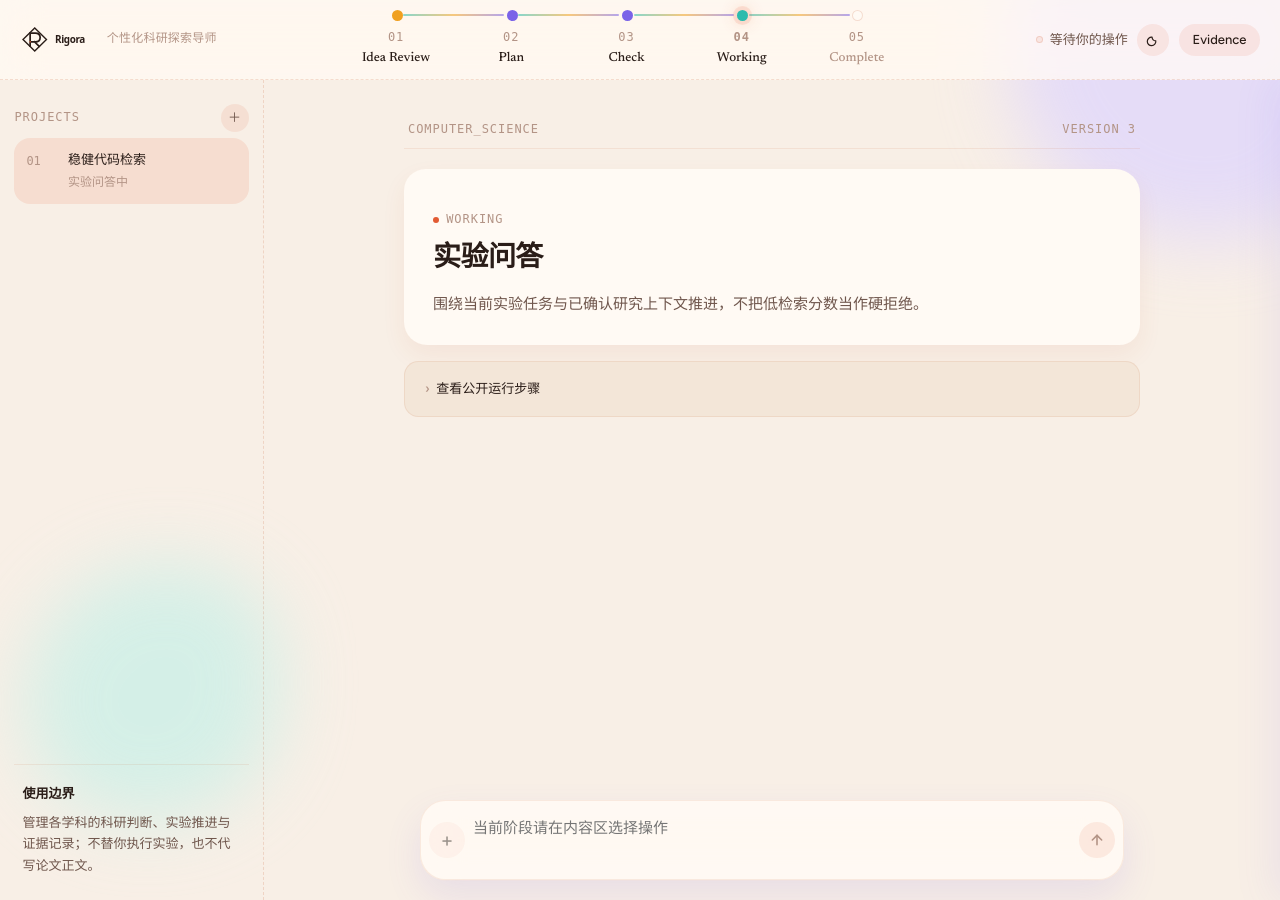
Test: ProjectWorkspace › locks background scroll while a narrow-screen panel is open and closes on Escape
Click the button "Evidence" at (1219, 40), box [1179,24,1260,56]
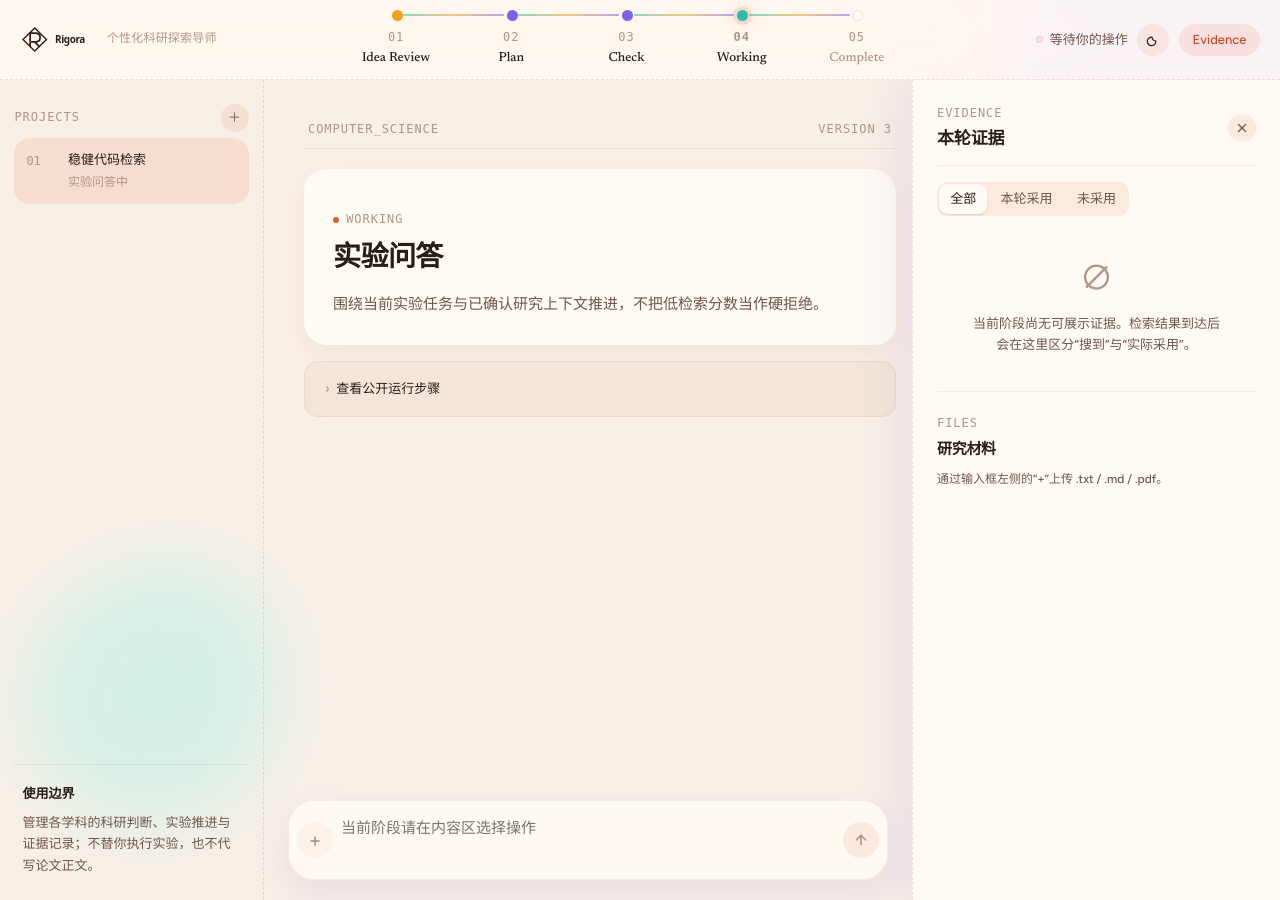
Expected: the button "Evidence" is expanded, [1179,24,1260,56]
Press Escape
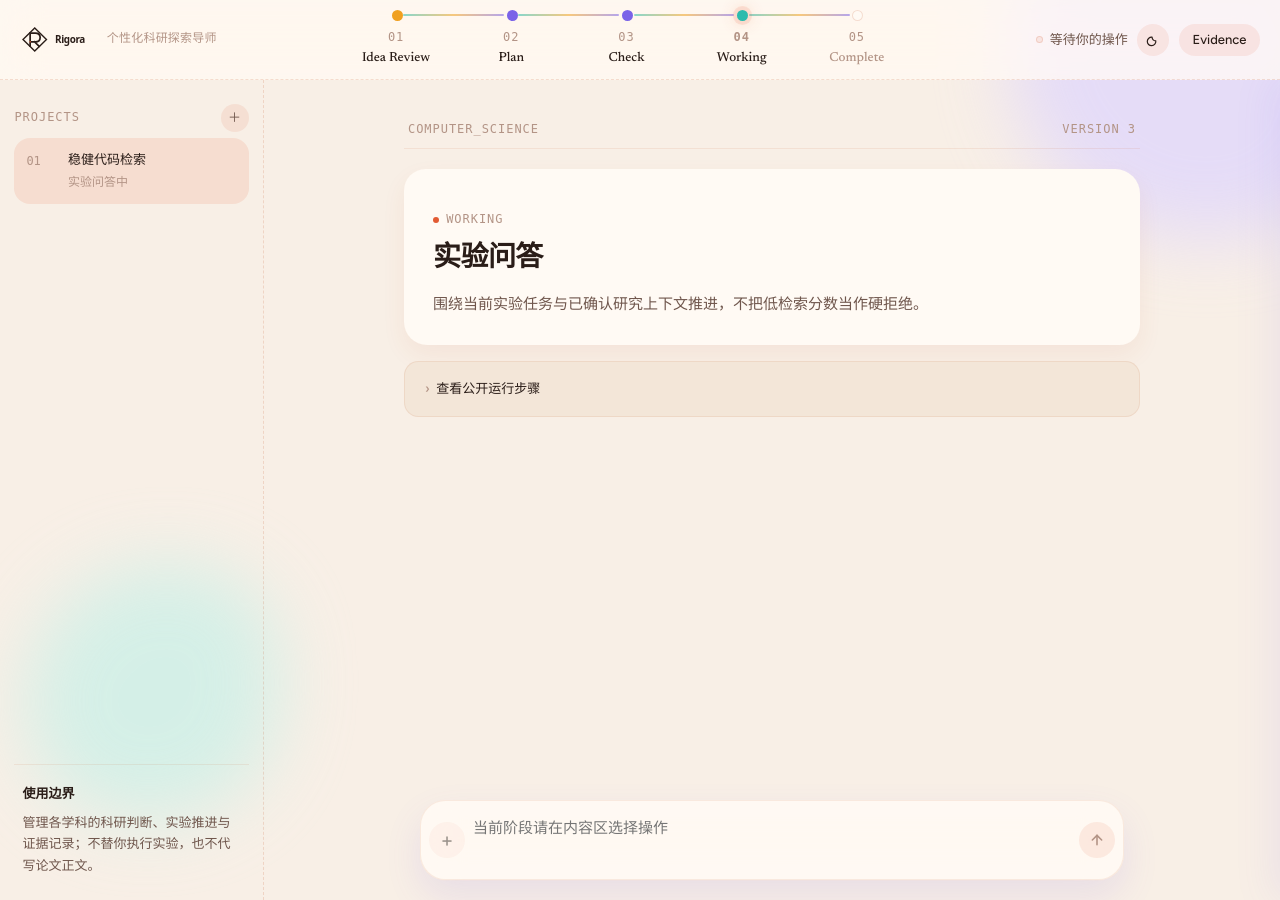
Expected: the button "Evidence" is collapsed, [1179,24,1260,56]
